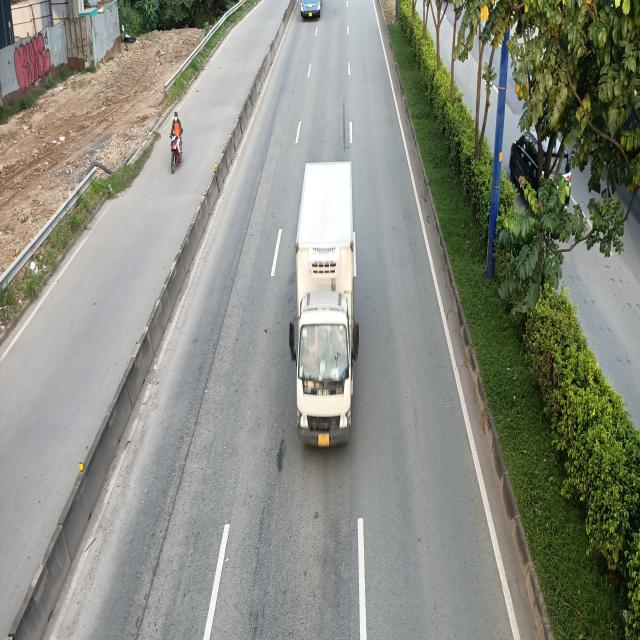truck: (288, 162, 360, 452)
